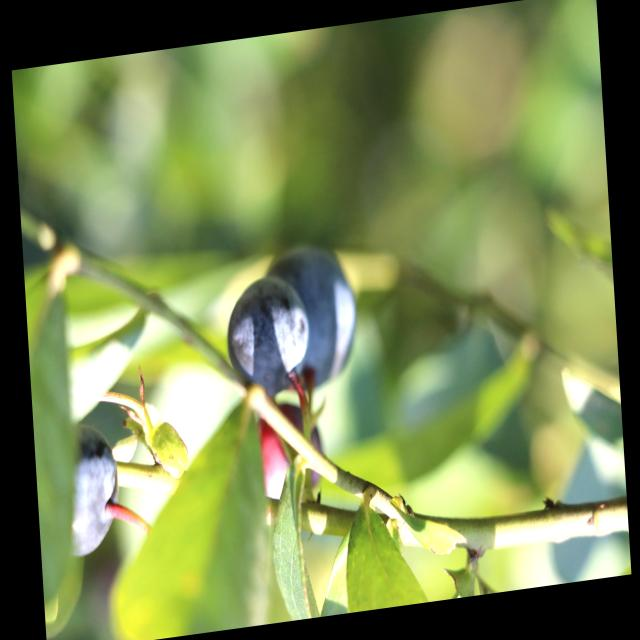blueberry: (260, 226, 366, 402), (220, 267, 316, 398), (50, 408, 126, 570)
blueberry-halfripe: (250, 398, 328, 517)
